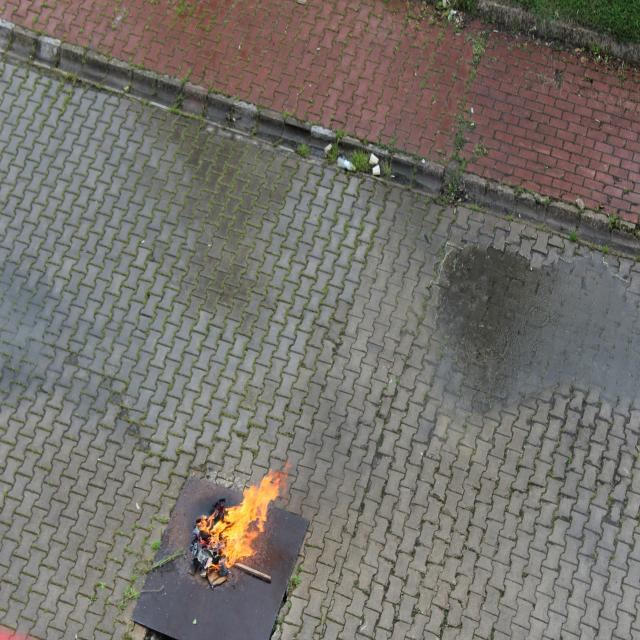fire: (210, 460, 292, 570)
